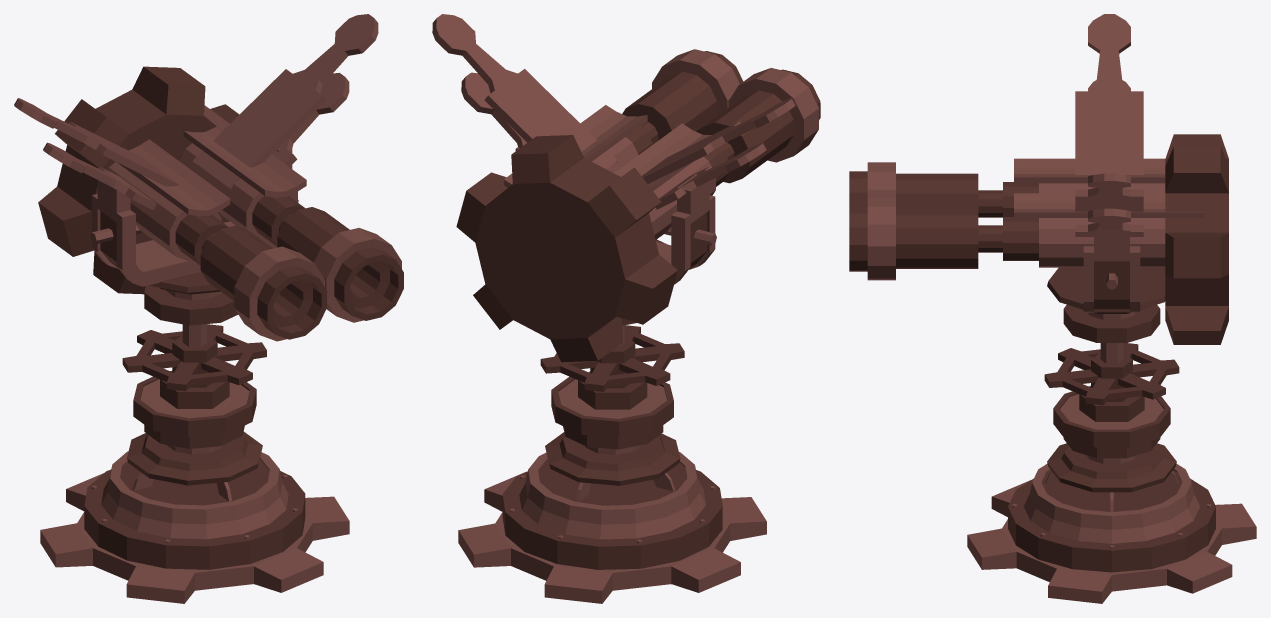
Rendered from bomber_1.glb.
3 renders of one model, left to right at view 1: azimuth 30°, elevation 25°; view 2: azimuth 150°, elevation 25°; view 3: azimuth 270°, elevation 25°, orthographic. The views are drawn at different scales.
Parts seen in each view (by area): view 1: Bomber_1_Gun_Cylinder.200, Bomber_1_Base_Cylinder.136, Bomber_1_Mid_Cylinder.201; view 2: Bomber_1_Gun_Cylinder.200, Bomber_1_Base_Cylinder.136, Bomber_1_Mid_Cylinder.201; view 3: Bomber_1_Gun_Cylinder.200, Bomber_1_Base_Cylinder.136, Bomber_1_Mid_Cylinder.201.
Part boxes in pixels (box(x1,y1,x2,y2)): Bomber_1_Gun_Cylinder.200: box(14, 14, 403, 341); Bomber_1_Base_Cylinder.136: box(40, 371, 349, 603); Bomber_1_Mid_Cylinder.201: box(90, 148, 297, 408); Bomber_1_Gun_Cylinder.200: box(432, 14, 820, 362); Bomber_1_Base_Cylinder.136: box(458, 376, 766, 603); Bomber_1_Mid_Cylinder.201: box(515, 147, 716, 409); Bomber_1_Gun_Cylinder.200: box(849, 14, 1228, 344); Bomber_1_Base_Cylinder.136: box(967, 386, 1256, 603); Bomber_1_Mid_Cylinder.201: box(1044, 228, 1179, 421).
Size of the model in its own units: 1.84 by 2.37 by 1.94.
